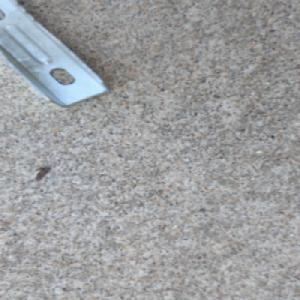ClampPart: (0, 0, 115, 108)
